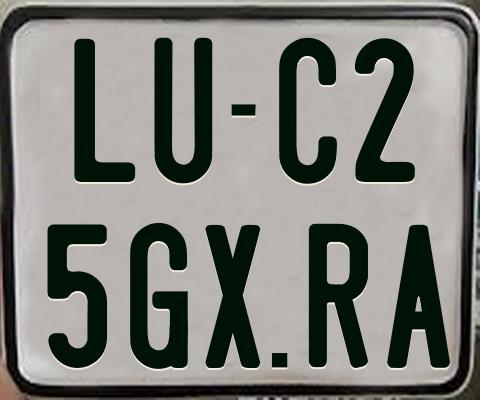2: (355, 37, 417, 187)
5: (45, 221, 110, 371)
A: (386, 225, 449, 370)
C: (277, 35, 341, 182)
G: (130, 221, 192, 372)
L: (72, 38, 139, 185)
R: (306, 224, 371, 370)
U: (154, 36, 216, 183)
X: (202, 222, 261, 369)
